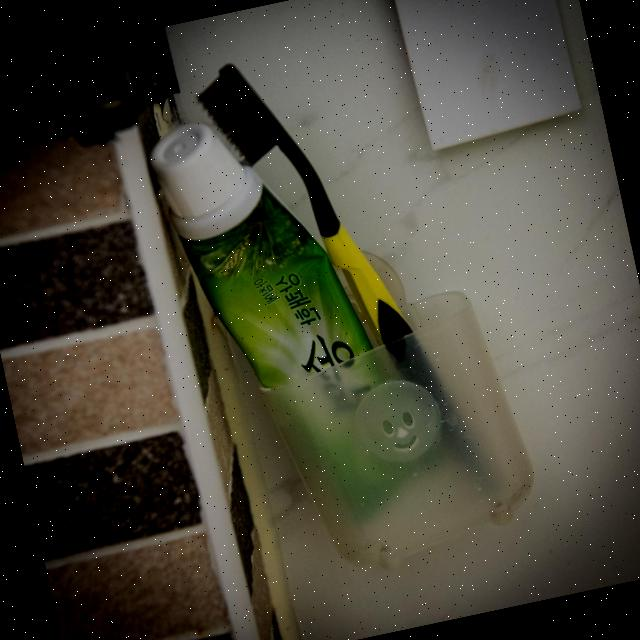Toothpaste: (144, 89, 388, 435)
